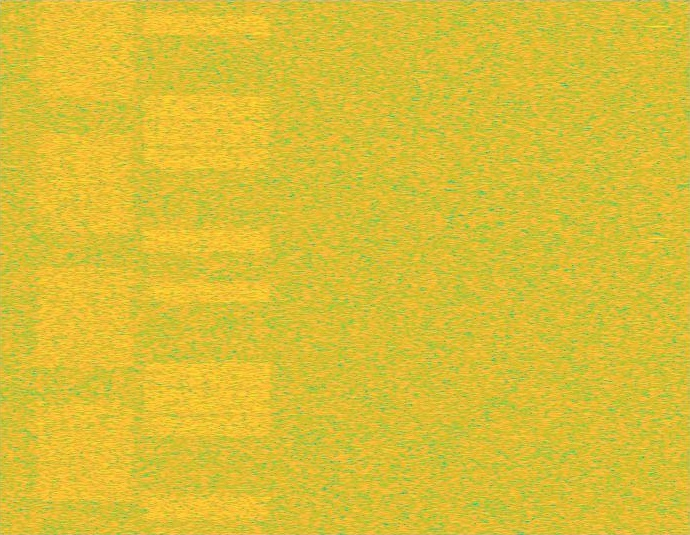5G: (34, 0, 137, 534)
LTE: (138, 0, 276, 534)
Radar: (651, 0, 665, 534)
